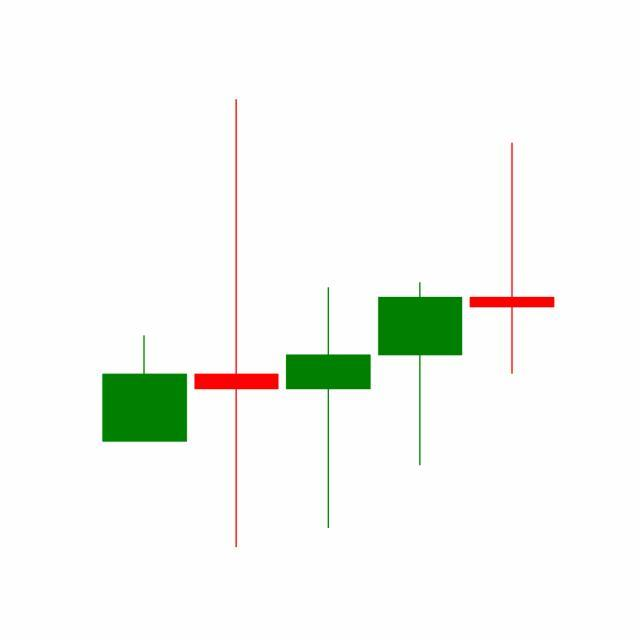Spinning Top: (466, 140, 559, 377)
